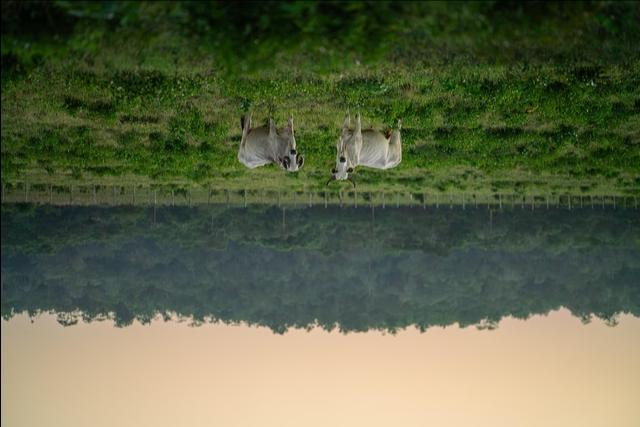Non_Gorille: (73, 31, 508, 346)
